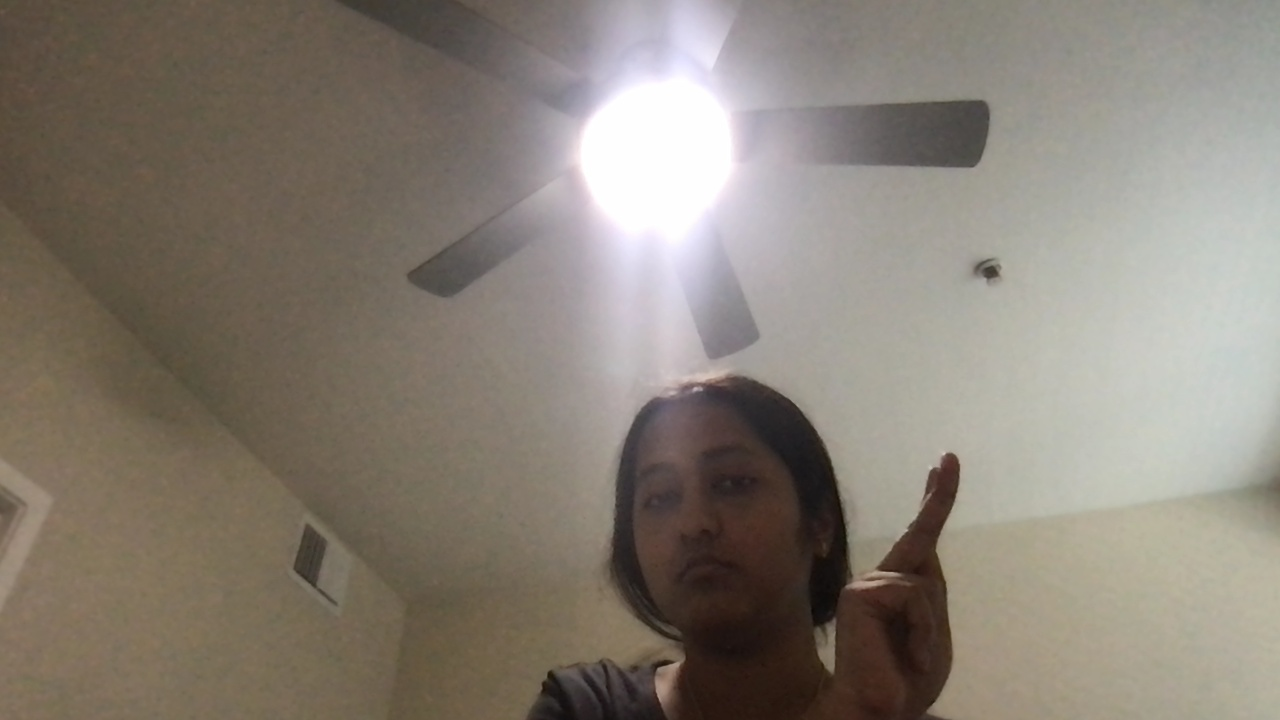k: (858, 445, 995, 713)
